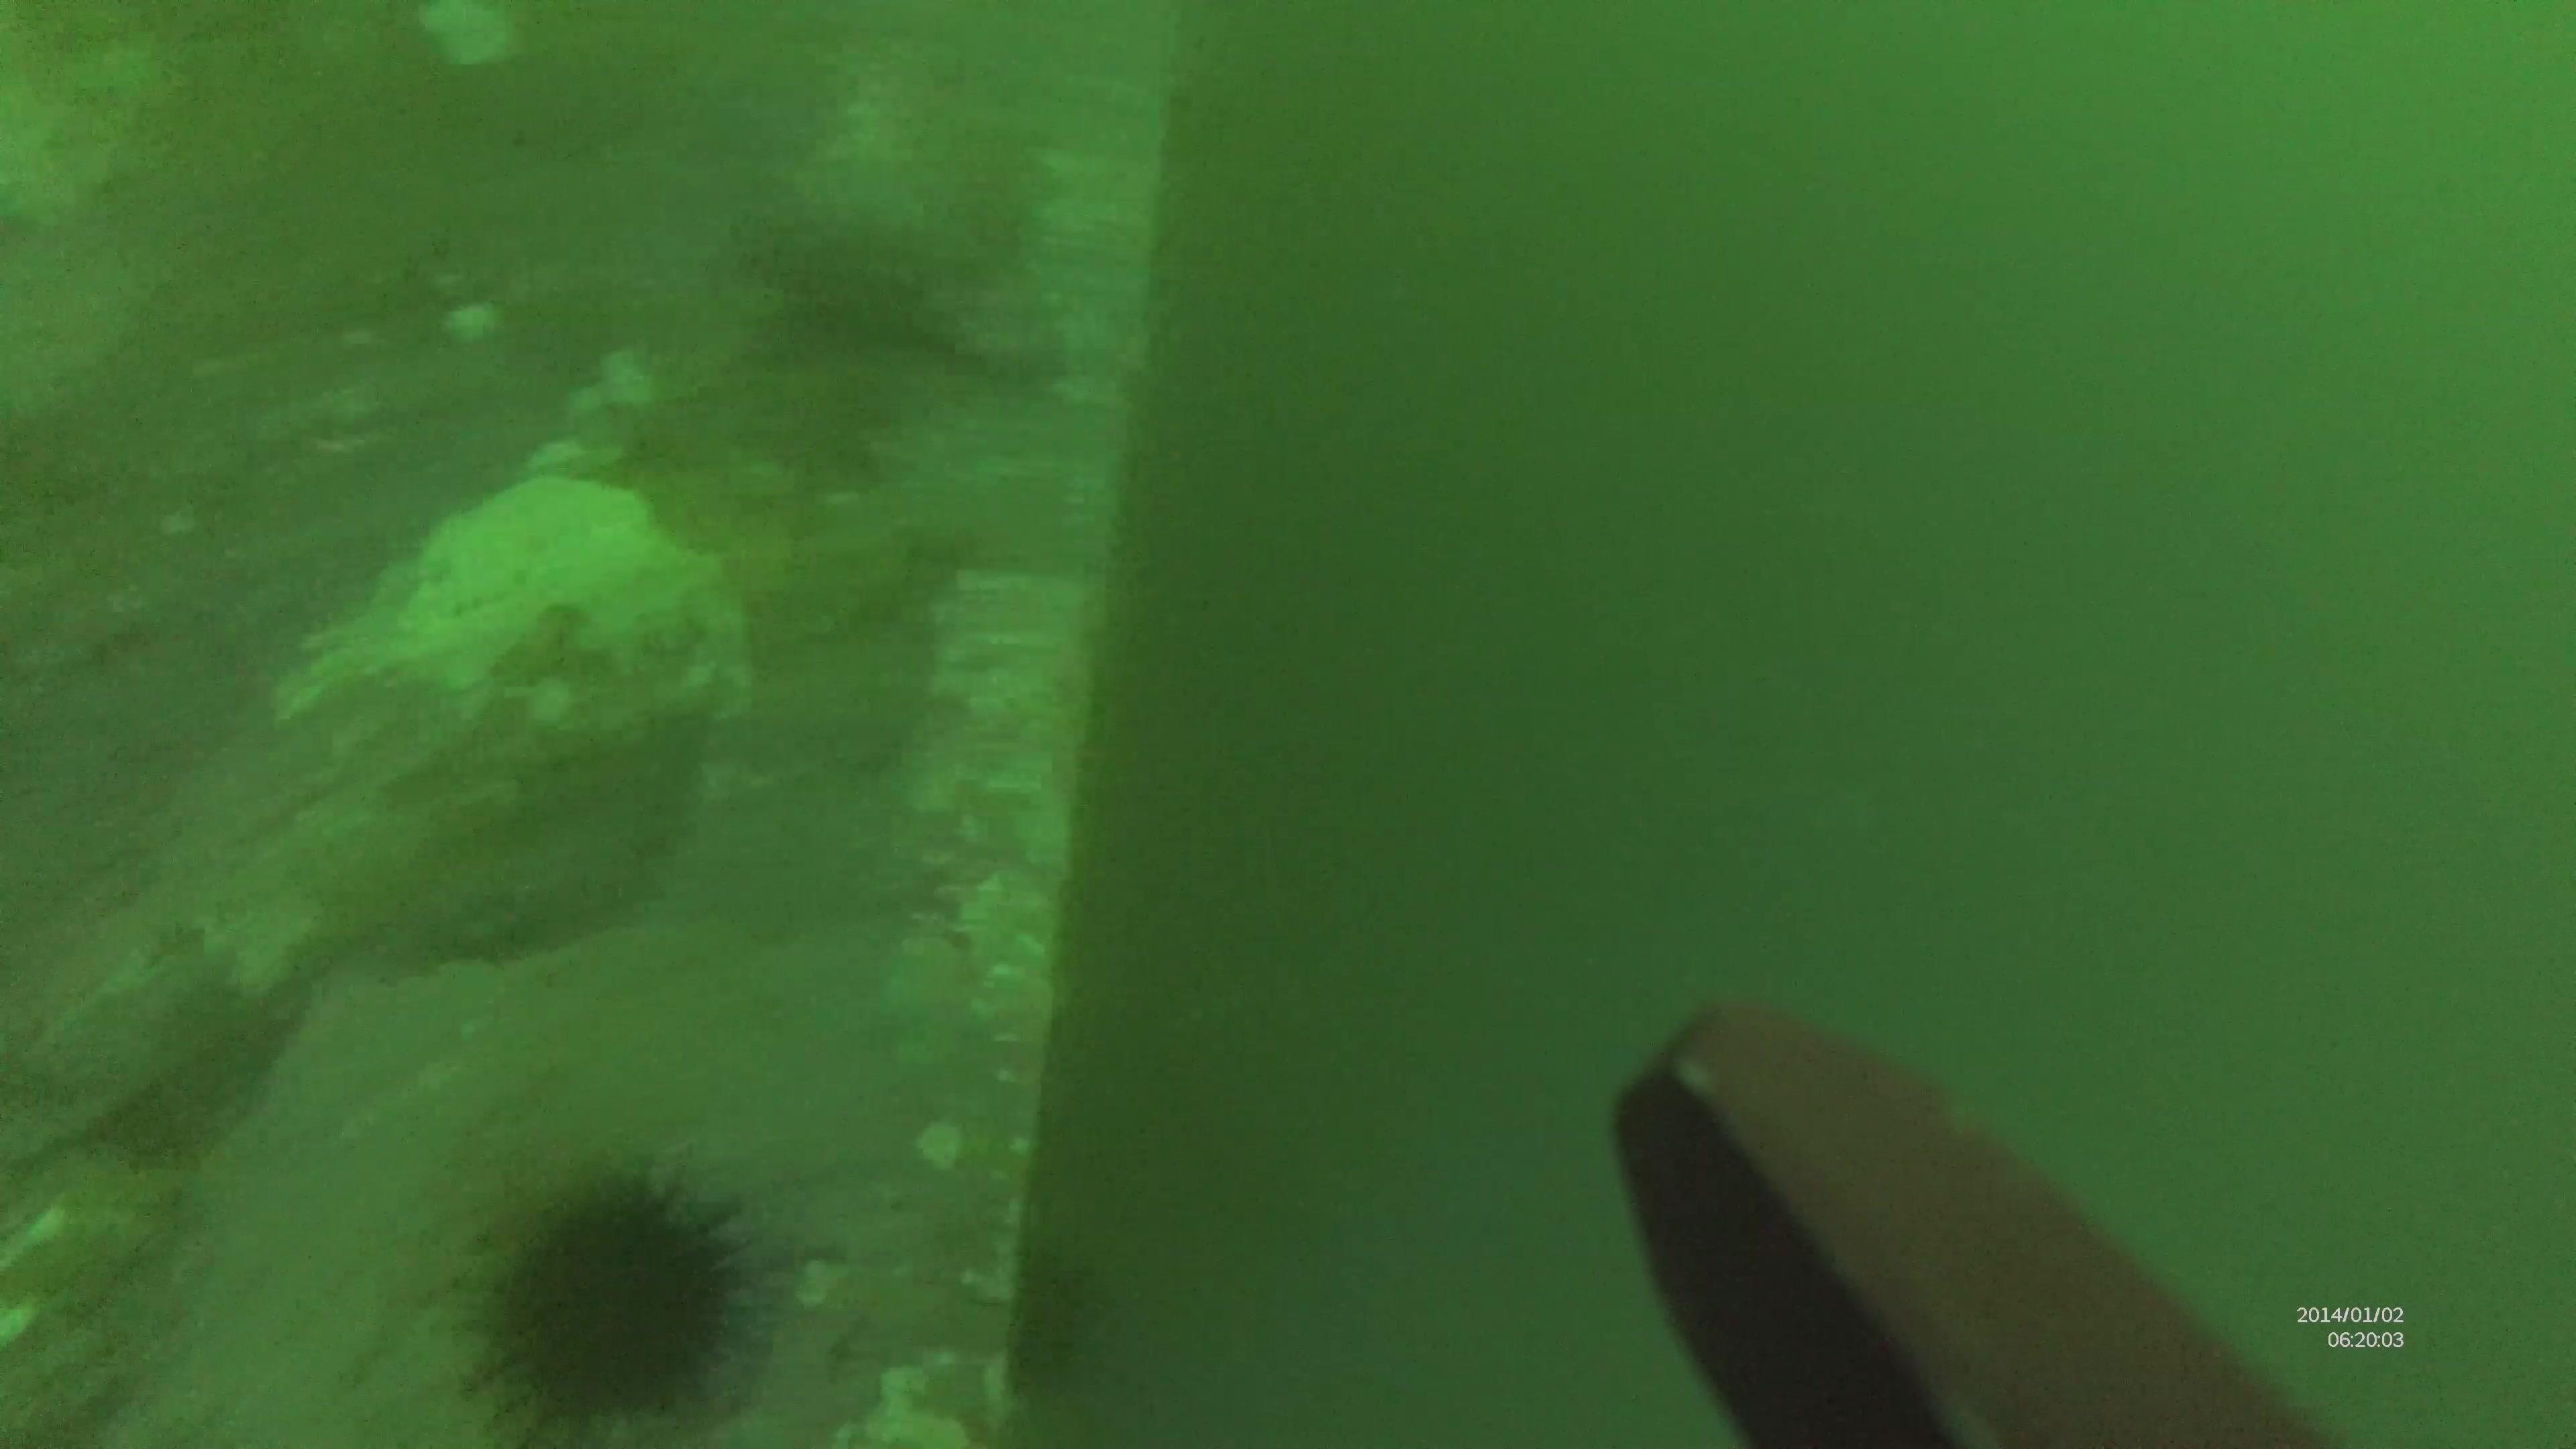echinus: (478, 1180, 755, 1435)
